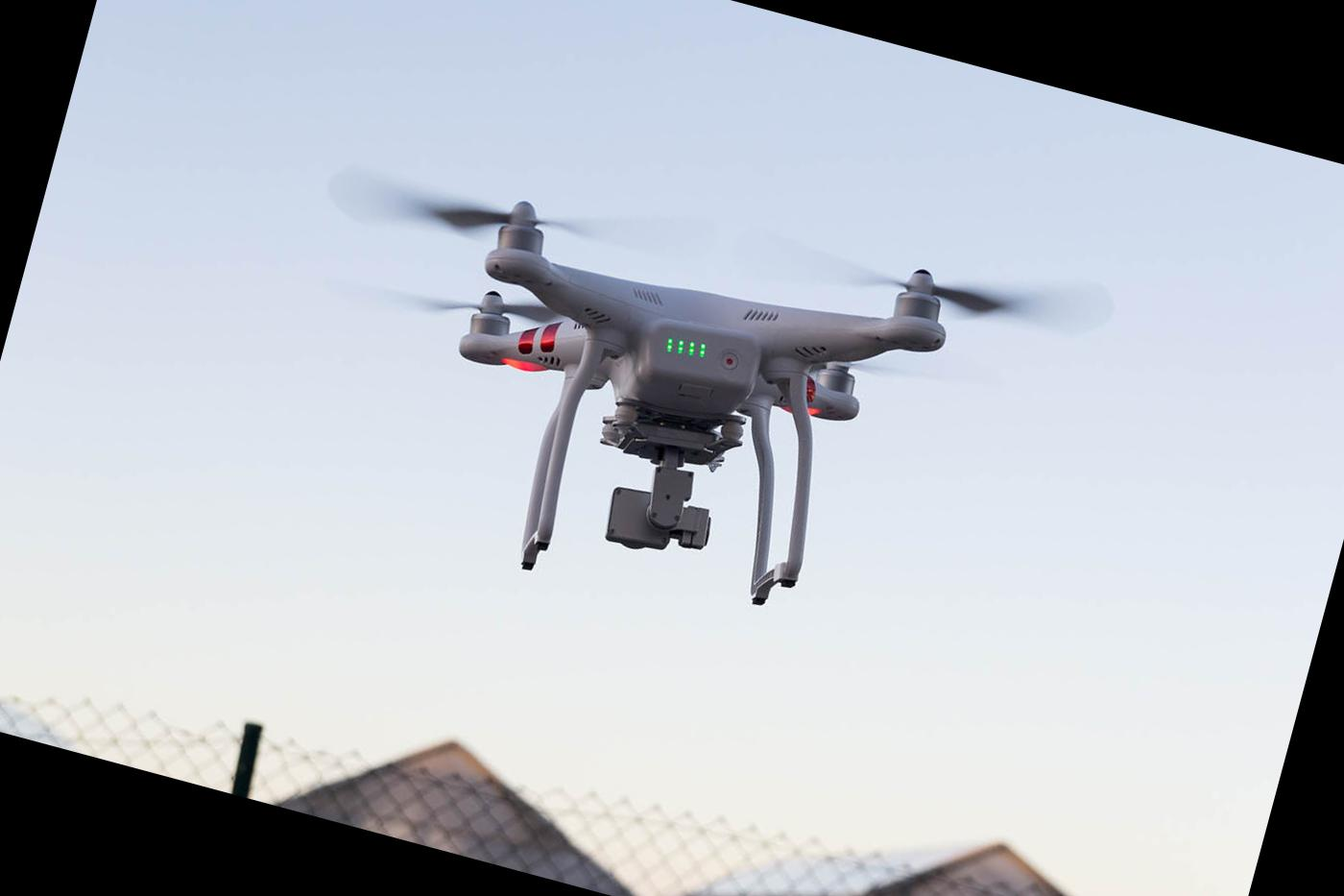drone: (336, 115, 1094, 654)
